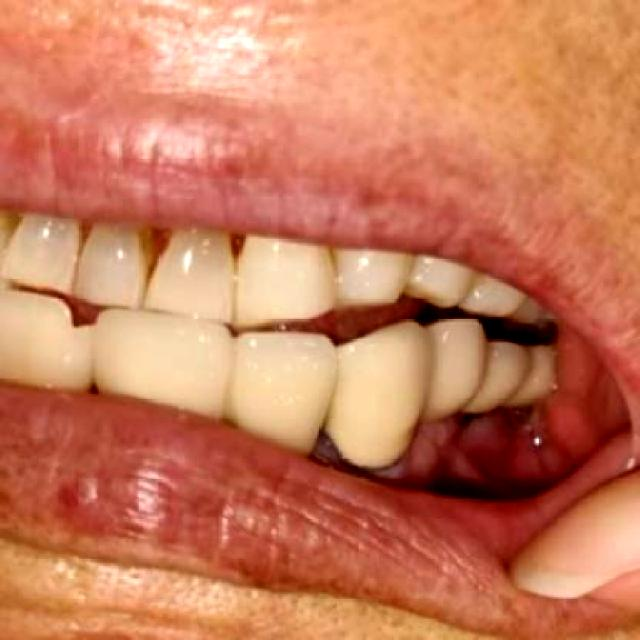Plaque: (314, 432, 408, 475), (413, 412, 501, 449)
